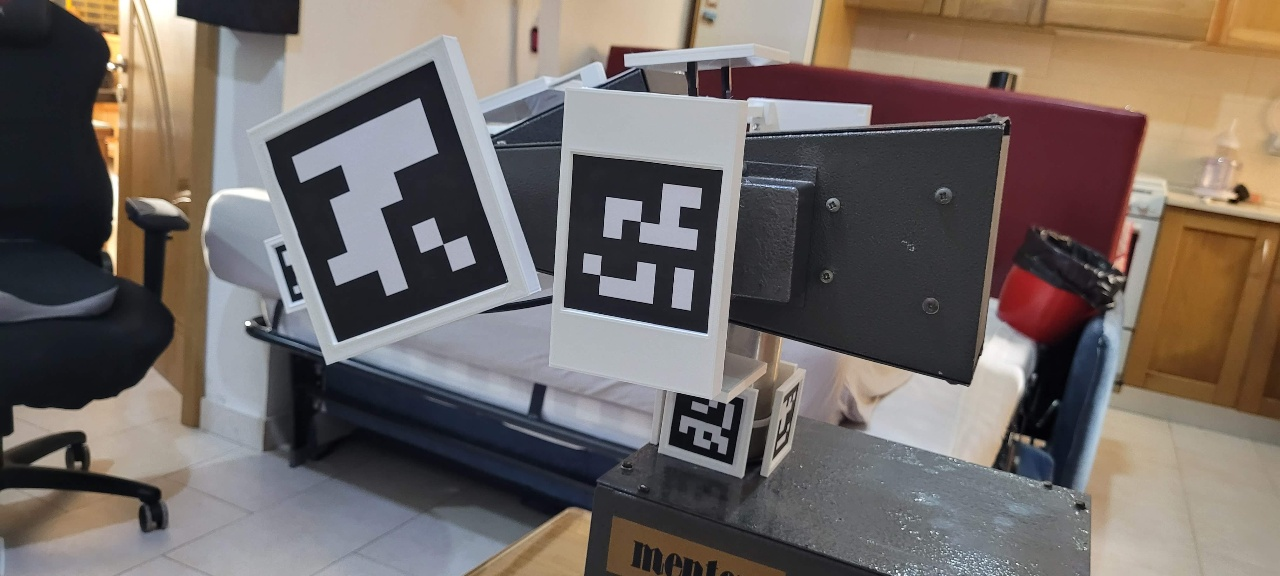Robot: (281, 37, 976, 576)
